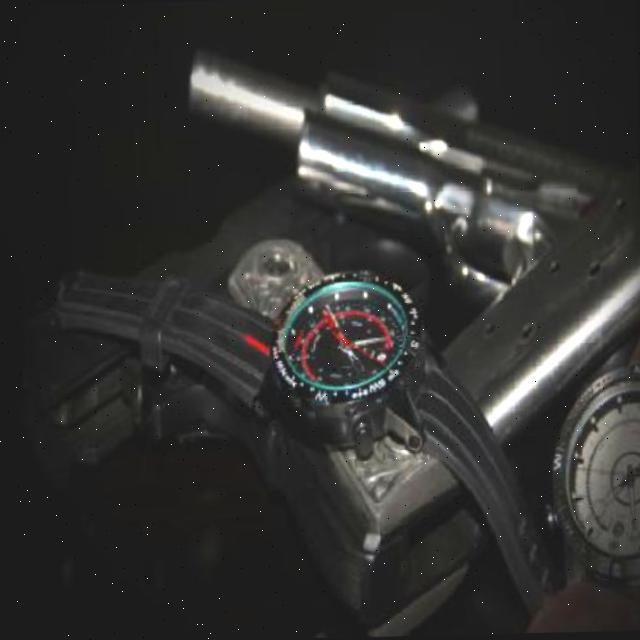gun: (11, 79, 496, 640), (186, 26, 640, 424)
